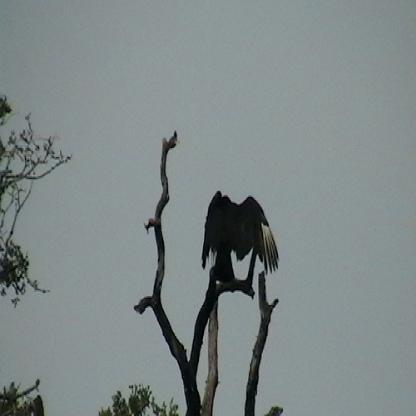bird: (199, 188, 278, 284)
